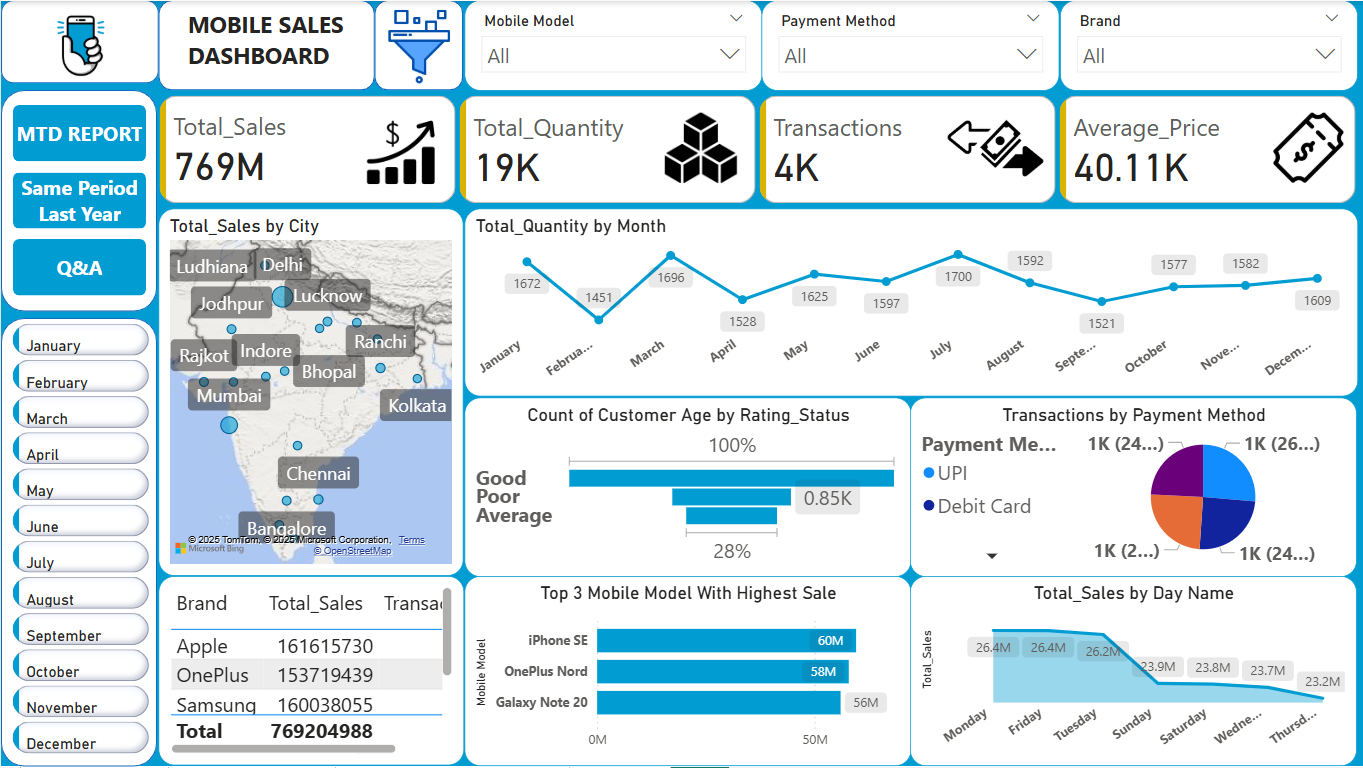

Layout of this report page (visuals, bound fields, positions):
{"tool":"powerbi","page":{"name":"dashboard","canvas":[1280,720],"ordinal":0},"visuals":[{"type":"shape","box":[0,0,148.3,78.3],"z":0},{"type":"image","box":[18.3,0,113.3,85],"z":1000},{"type":"shape","box":[0,85,146.7,208.3],"z":2000},{"type":"shape","box":[0,298.3,146.7,421.7],"z":3000},{"type":"advancedSlicerVisual","fields":{"Values":["Custum_calender.Date.Variation.Date Hierarchy.Month"]},"box":[5,298.3,138.3,421.7],"z":4000},{"type":"cardVisual","fields":{"Data":["Mobile Sales Data.Total_Sales","Mobile Sales Data.Total_Quantity","Mobile Sales Data.Transactions","Mobile Sales Data.Average_Price"]},"box":[143.3,85,1136.7,111.7],"z":5000},{"type":"slicer","fields":{"Values":["Mobile Sales Data.Mobile Model"]},"box":[435,0,280,85],"z":6000},{"type":"slicer","fields":{"Values":["Mobile Sales Data.Payment Method"]},"box":[715,0,280,85],"z":7000},{"type":"slicer","fields":{"Values":["Mobile Sales Data.Brand"]},"box":[995,0,280,85],"z":8000},{"type":"shape","box":[351.7,0,83.3,85],"z":9000},{"type":"image","box":[345,3.3,95,81.7],"z":10000},{"type":"shape","box":[148.3,0,203.3,85],"z":11000},{"type":"textbox","box":[170,3.3,163.3,76.7],"z":12000},{"type":"map","fields":{"Category":["Mobile Sales Data.City"],"Size":["Mobile Sales Data.Total_Sales"]},"box":[148.3,196.7,286.7,345],"z":13000},{"type":"lineChart","fields":{"Category":["Custum_calender.Date.Variation.Date Hierarchy.Month"],"Y":["Mobile Sales Data.Total_Quantity"]},"box":[435,196.7,840,176.7],"z":14000},{"type":"funnel","fields":{"Y":["CountNonNull(Mobile Sales Data.Customer Age)"],"Category":["Mobile Sales Data.Rating_Conditions"]},"box":[435,373.3,420,168.3],"z":15000},{"type":"pieChart","fields":{"Category":["Mobile Sales Data.Payment Method"],"Y":["Mobile Sales Data.Transactions"]},"box":[855,373.3,420,168.3],"z":16000},{"type":"clusteredBarChart","title":"Top 3 Mobile Model With Highest Sale ","fields":{"Y":["Mobile Sales Data.Total_Sales"],"Category":["Mobile Sales Data.Mobile Model"]},"box":[435,541.7,420,178.3],"z":17000},{"type":"areaChart","title":"Total_Sales by Day Name","fields":{"Y":["Mobile Sales Data.Total_Sales"],"Category":["Custum_calender.Day Name"]},"box":[855,541.7,420,178.3],"z":18000},{"type":"tableEx","fields":{"Values":["Mobile Sales Data.Brand","Mobile Sales Data.Total_Sales","Mobile Sales Data.Transactions"]},"box":[148,542,287,178],"z":19000},{"type":"pageNavigator","box":[0,0,600,50],"z":20000},{"type":"pageNavigator","box":[10.9,98.5,125,179.7],"z":21000}]}

Visuals, with their boxes in screenshot pixels (x1, y1, x2, y2), scaled from the page's 1280x720 canvas onto the 1363x768 screenshot:
shape: pyautogui.locateOnScreen(0, 0, 158, 84)
image: pyautogui.locateOnScreen(19, 0, 140, 91)
shape: pyautogui.locateOnScreen(0, 91, 156, 313)
shape: pyautogui.locateOnScreen(0, 318, 156, 767)
advancedSlicerVisual - Custum_calender.Date.Variation.Date Hierarchy.Month: pyautogui.locateOnScreen(5, 318, 153, 767)
cardVisual - Mobile Sales Data.Total_Sales x Mobile Sales Data.Total_Quantity: pyautogui.locateOnScreen(153, 91, 1362, 210)
slicer - Mobile Sales Data.Mobile Model: pyautogui.locateOnScreen(463, 0, 761, 91)
slicer - Mobile Sales Data.Payment Method: pyautogui.locateOnScreen(761, 0, 1060, 91)
slicer - Mobile Sales Data.Brand: pyautogui.locateOnScreen(1060, 0, 1358, 91)
shape: pyautogui.locateOnScreen(375, 0, 463, 91)
image: pyautogui.locateOnScreen(367, 4, 469, 91)
shape: pyautogui.locateOnScreen(158, 0, 374, 91)
textbox: pyautogui.locateOnScreen(181, 4, 355, 85)
map - Mobile Sales Data.City x Mobile Sales Data.Total_Sales: pyautogui.locateOnScreen(158, 210, 463, 578)
lineChart - Custum_calender.Date.Variation.Date Hierarchy.Month x Mobile Sales Data.Total_Quantity: pyautogui.locateOnScreen(463, 210, 1358, 398)
funnel - CountNonNull(Mobile Sales Data.Customer Age) x Mobile Sales Data.Rating_Conditions: pyautogui.locateOnScreen(463, 398, 910, 578)
pieChart - Mobile Sales Data.Payment Method x Mobile Sales Data.Transactions: pyautogui.locateOnScreen(910, 398, 1358, 578)
"Top 3 Mobile Model With Highest Sale " clusteredBarChart: pyautogui.locateOnScreen(463, 578, 910, 767)
"Total_Sales by Day Name" areaChart: pyautogui.locateOnScreen(910, 578, 1358, 767)
tableEx - Mobile Sales Data.Brand x Mobile Sales Data.Total_Sales: pyautogui.locateOnScreen(158, 578, 463, 767)
pageNavigator: pyautogui.locateOnScreen(0, 0, 639, 53)
pageNavigator: pyautogui.locateOnScreen(12, 105, 145, 297)
